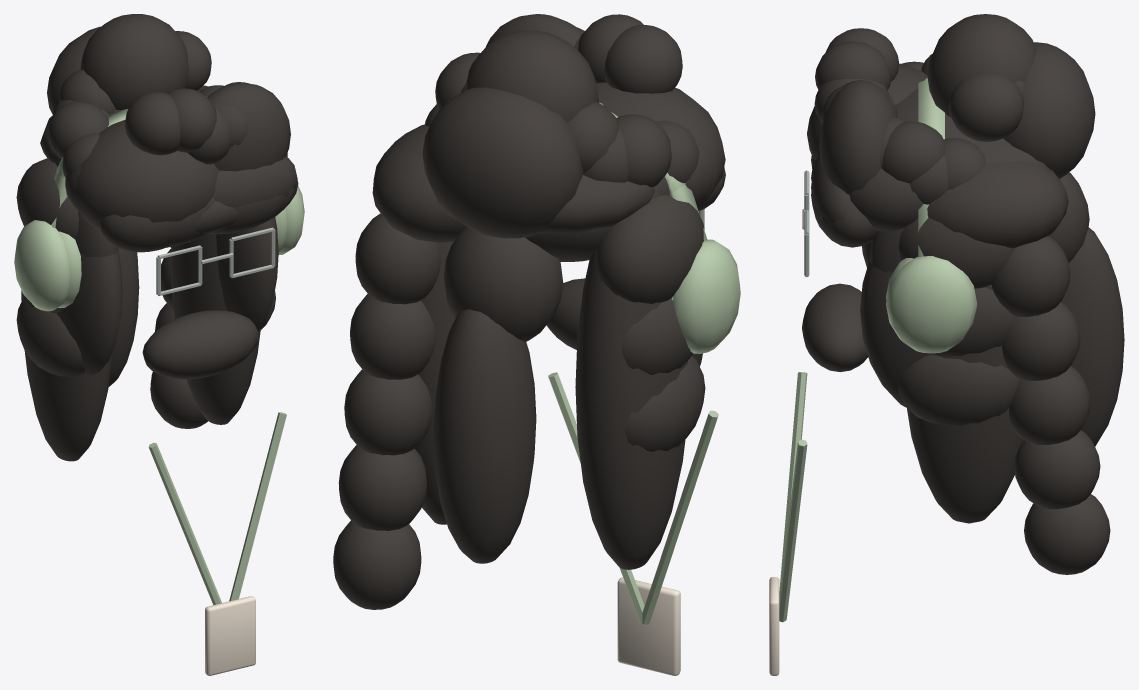
File: appearance_kit.glb
3 views of the same model, side by side, from view 1: azimuth 30°, elevation 25°; view 2: azimuth 150°, elevation 25°; view 3: azimuth 270°, elevation 25° (orthographic). The views are drawn at different scales.
Parts seen in each view (by area): view 1: hair_3_mesh, hair_4_mesh, hair_1_mesh, hair_0_mesh, hair_7_mesh, hair_10_mesh, lanyard_mesh, beard_mesh, headphones_0_mesh, hair_2_mesh, hair_11_mesh, headphones_7_mesh (+4 smaller); view 2: hair_11_mesh, hair_2_mesh, hair_4_mesh, hair_5_mesh, hair_7_mesh, hair_1_mesh, lanyard_mesh, hair_10_mesh, hair_3_mesh, headphones_0_mesh, hair_8_mesh, headphones_7_mesh (+4 smaller); view 3: hair_11_mesh, hair_1_mesh, hair_7_mesh, hair_2_mesh, hair_4_mesh, hair_5_mesh, hair_3_mesh, hair_10_mesh, headphones_0_mesh, hair_0_mesh, beard_mesh, lanyard_mesh (+6 smaller).
Boxes of the visible parts, <box> form: hair_3_mesh: <box>75,83,290,229</box>; hair_4_mesh: <box>21,214,260,461</box>; hair_1_mesh: <box>48,31,249,177</box>; hair_0_mesh: <box>56,110,278,375</box>; hair_7_mesh: <box>16,115,297,377</box>; hair_10_mesh: <box>75,14,188,257</box>; lanyard_mesh: <box>148,412,286,675</box>; beard_mesh: <box>142,310,258,379</box>; headphones_0_mesh: <box>15,109,301,311</box>; hair_2_mesh: <box>57,110,298,387</box>; hair_11_mesh: <box>150,85,208,428</box>; headphones_7_mesh: <box>15,111,304,310</box>; hair_11_mesh: <box>333,124,464,609</box>; hair_2_mesh: <box>433,188,658,563</box>; hair_4_mesh: <box>415,167,725,569</box>; hair_5_mesh: <box>422,87,583,238</box>; hair_7_mesh: <box>526,195,705,451</box>; hair_1_mesh: <box>425,14,699,187</box>; lanyard_mesh: <box>548,372,718,675</box>; hair_10_mesh: <box>466,30,599,122</box>; hair_3_mesh: <box>486,14,725,208</box>; headphones_0_mesh: <box>603,105,734,353</box>; hair_8_mesh: <box>537,175,654,233</box>; headphones_7_mesh: <box>617,117,738,353</box>; hair_11_mesh: <box>927,161,1110,574</box>; hair_1_mesh: <box>814,28,1024,204</box>; hair_7_mesh: <box>811,102,1019,425</box>; hair_2_mesh: <box>811,88,1124,446</box>; hair_4_mesh: <box>907,284,1023,523</box>; hair_5_mesh: <box>811,42,1095,180</box>; hair_3_mesh: <box>807,63,927,194</box>; hair_10_mesh: <box>869,14,1036,272</box>; headphones_0_mesh: <box>886,77,977,353</box>; hair_0_mesh: <box>811,100,975,407</box>; beard_mesh: <box>802,283,868,371</box>; lanyard_mesh: <box>769,372,807,675</box>.
Bounding box in the file's own units: 0.424 × 0.855 × 0.427.
